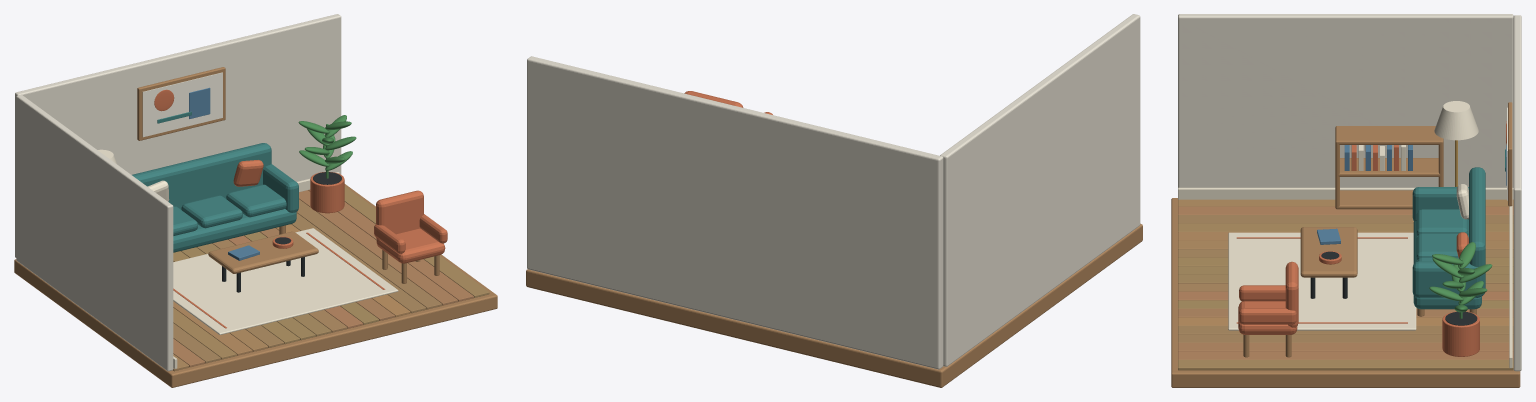
The model's file is furnished-room.glb.
The picture shows the model from 3 angles, left to right: view 1: azimuth 30°, elevation 25°; view 2: azimuth 150°, elevation 25°; view 3: azimuth 270°, elevation 25°; orthographic projection. The views are drawn at different scales.
Parts seen in each view (by area): view 1: Back wall, Left wall, Woven rug, Foundation, Sofa back, Art paper, Floor plank.016, Coffee table top, Sofa base, Floor plank.017, Armchair back, Floor plank.018 (+27 smaller); view 2: Back wall, Left wall, Foundation; view 3: Left wall, Woven rug, Foundation, Floor plank.019, Back wall, Floor plank.017, Floor plank.018, Left skirting, Floor plank.016, Coffee table top, Floor plank.002, Floor plank.001 (+35 smaller).
Boxes of the visible parts, <box> form: Back wall: <box>15,14,341,257</box>; Left wall: <box>16,94,173,371</box>; Woven rug: <box>173,228,398,334</box>; Foundation: <box>14,184,497,387</box>; Sofa back: <box>132,143,271,209</box>; Art paper: <box>142,72,222,137</box>; Floor plank.016: <box>296,199,442,309</box>; Coffee table top: <box>208,231,318,273</box>; Sofa base: <box>173,209,296,252</box>; Floor plank.017: <box>299,190,457,305</box>; Armchair back: <box>376,190,423,240</box>; Floor plank.018: <box>308,189,473,301</box>; Back wall: <box>527,56,943,369</box>; Left wall: <box>940,14,1140,366</box>; Foundation: <box>526,223,1142,387</box>; Left wall: <box>1178,14,1513,187</box>; Woven rug: <box>1228,232,1416,330</box>; Foundation: <box>1171,198,1520,387</box>; Floor plank.019: <box>1178,359,1513,370</box>; Back wall: <box>1513,15,1521,371</box>; Floor plank.017: <box>1178,342,1513,351</box>; Floor plank.018: <box>1178,351,1513,359</box>; Left skirting: <box>1178,187,1513,199</box>; Floor plank.016: <box>1178,334,1513,342</box>; Coffee table top: <box>1300,227,1357,277</box>; Floor plank.002: <box>1178,215,1513,223</box>; Floor plank.001: <box>1178,206,1513,214</box>.
Size of the model in its own units: 6.22 by 3.27 by 5.22.
